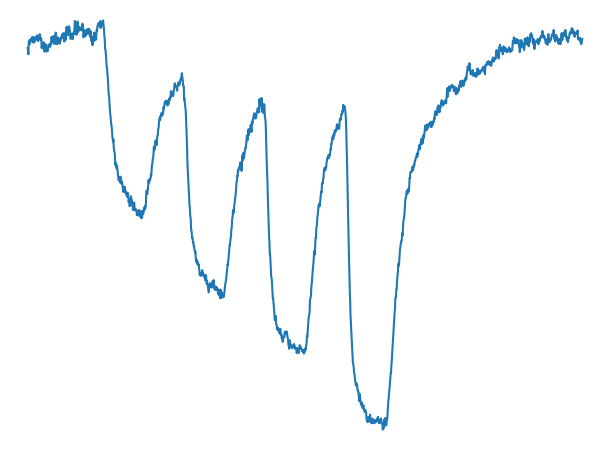decrease: (82, 10, 114, 55), (334, 97, 357, 153), (170, 67, 193, 112), (252, 94, 276, 137)
increase: (128, 183, 155, 224), (371, 398, 397, 435), (291, 322, 315, 362), (209, 267, 232, 305)
